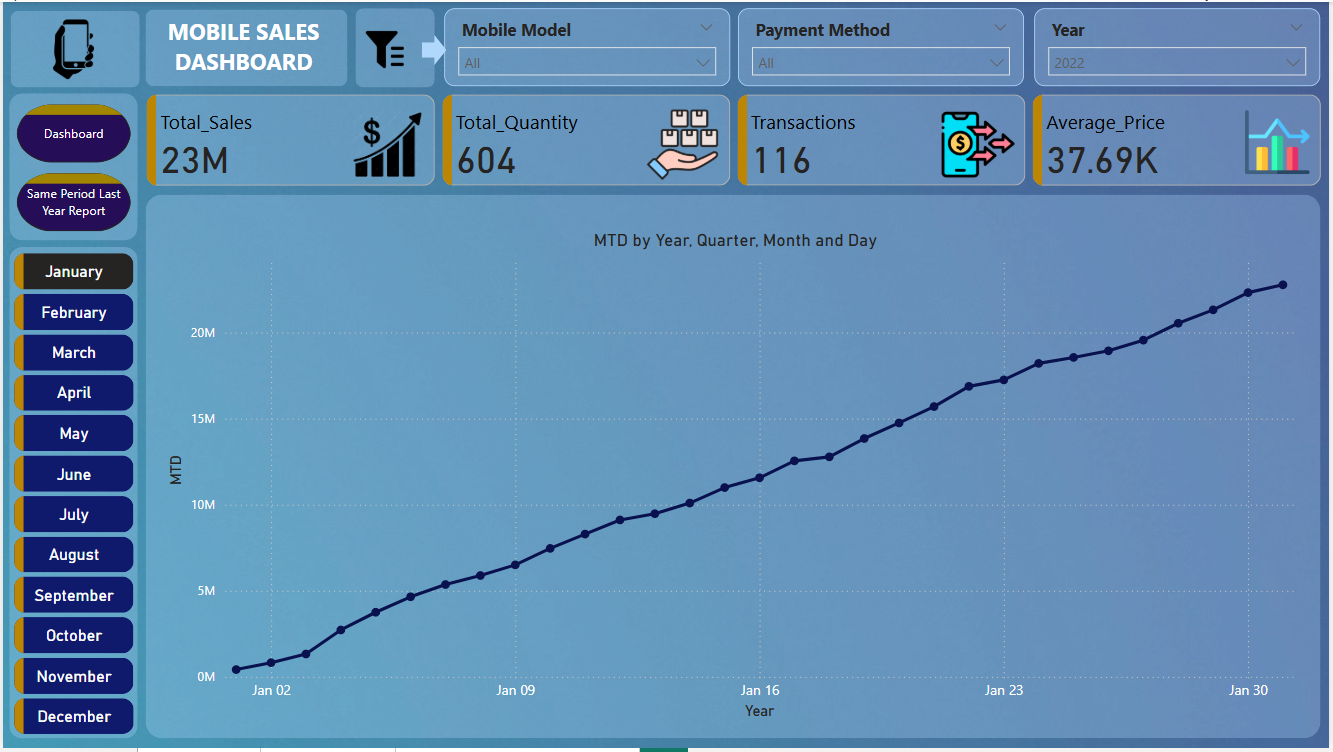

Layout of this report page (visuals, bound fields, positions):
{"tool":"powerbi","page":{"name":"MTD Report","canvas":[1280,720],"ordinal":1},"visuals":[{"type":"shape","box":[7.2,8.2,124.9,74.1],"z":0,"group":"g1"},{"type":"shape","box":[6,88.1,124.3,142.4],"z":0},{"type":"image","box":[19.5,12.3,97.4,67.2],"z":1000,"group":"g1"},{"type":"shape","box":[137.2,6.9,194.9,74.1],"z":1000},{"type":"textbox","box":[137.5,8.4,189.4,73.6],"z":2000},{"type":"cardVisual","fields":{"Data":["All Measures.Total_Sales","All Measures.Total_Quantity","All Measures.Transactions","All Measures.Average_Price"]},"box":[133.9,84.5,1144.9,98.9],"z":3000},{"type":"group","id":"g1","title":"Group 1","box":[7.2,8.2,124.9,74.1],"z":4000},{"type":"slicer","fields":{"Values":["Mobile Sales Data.Mobile Model"]},"box":[426.3,6,276.2,75],"z":5000},{"type":"slicer","fields":{"Values":["Mobile Sales Data.Payment Method"]},"box":[709.9,6,276.2,75],"z":6000},{"type":"slicer","fields":{"Values":["Custom Calendar.Date.Variation.Date Hierarchy.Year"]},"box":[995.1,6,276.2,75],"z":7000},{"type":"shape","box":[340.7,6,76.5,76.5],"z":8000},{"type":"image","box":[327.2,22.5,82.6,46.5],"z":9000},{"type":"shape","box":[403.8,31.5,24,30],"z":10000},{"type":"shape","box":[137.5,185.8,1134.1,524.8],"z":11000},{"type":"lineChart","fields":{"Y":["All Measures.MTD"],"Category":["Custom Calendar.Date.Variation.Date Hierarchy.Year","Custom Calendar.Date.Variation.Date Hierarchy.Quarter","Custom Calendar.Date.Variation.Date Hierarchy.Month","Custom Calendar.Date.Variation.Date Hierarchy.Day"]},"box":[154.4,219.6,1105.1,477.8],"z":12000},{"type":"shape","box":[6,236.5,124.3,474.1],"z":13000},{"type":"advancedSlicerVisual","fields":{"Values":["Custom Calendar.Date.Variation.Date Hierarchy.Month"]},"box":[6,237.7,125.5,480.2],"z":14000},{"type":"pageNavigator","box":[13.3,98.9,111,123.1],"z":15000}]}

Visuals, with their boxes in screenshot pixels (x1, y1, x2, y2), scaled from the page's 1280x720 canvas onto the 1333x752 screenshot:
shape: x1=7 y1=9 x2=138 y2=86
shape: x1=6 y1=92 x2=136 y2=241
image: x1=20 y1=13 x2=122 y2=83
shape: x1=143 y1=7 x2=346 y2=85
textbox: x1=143 y1=9 x2=340 y2=86
cardVisual - All Measures.Total_Sales x All Measures.Total_Quantity: x1=139 y1=88 x2=1332 y2=192
"Group 1" group: x1=7 y1=9 x2=138 y2=86
slicer - Mobile Sales Data.Mobile Model: x1=444 y1=6 x2=732 y2=85
slicer - Mobile Sales Data.Payment Method: x1=739 y1=6 x2=1027 y2=85
slicer - Custom Calendar.Date.Variation.Date Hierarchy.Year: x1=1036 y1=6 x2=1324 y2=85
shape: x1=355 y1=6 x2=434 y2=86
image: x1=341 y1=24 x2=427 y2=72
shape: x1=421 y1=33 x2=446 y2=64
shape: x1=143 y1=194 x2=1324 y2=742
lineChart - All Measures.MTD x Custom Calendar.Date.Variation.Date Hierarchy.Year: x1=161 y1=229 x2=1312 y2=728
shape: x1=6 y1=247 x2=136 y2=742
advancedSlicerVisual - Custom Calendar.Date.Variation.Date Hierarchy.Month: x1=6 y1=248 x2=137 y2=750
pageNavigator: x1=14 y1=103 x2=129 y2=232
